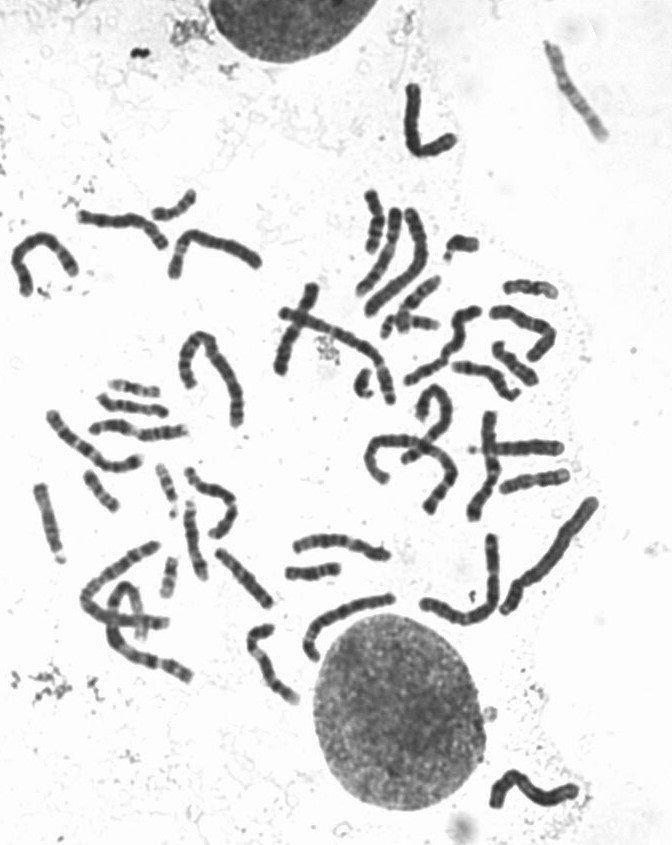chromosomes: (491, 492, 607, 618), (277, 305, 401, 410), (99, 577, 195, 687), (532, 34, 613, 155), (358, 432, 463, 521), (78, 537, 169, 639), (414, 529, 505, 626), (299, 587, 403, 665), (176, 327, 252, 433), (40, 408, 146, 483), (359, 205, 428, 319), (400, 303, 480, 390), (162, 227, 269, 289), (240, 620, 309, 714), (65, 203, 173, 261), (348, 204, 407, 301), (9, 229, 85, 303), (487, 764, 583, 822), (271, 277, 322, 381), (403, 77, 461, 168), (396, 383, 455, 469), (179, 465, 239, 543), (487, 303, 560, 366), (211, 546, 277, 612), (463, 408, 499, 527), (26, 481, 72, 567), (447, 358, 525, 404), (486, 333, 544, 393), (291, 533, 394, 566), (180, 497, 217, 586), (394, 274, 445, 338), (89, 388, 174, 426), (496, 464, 577, 497), (85, 418, 194, 441), (374, 311, 443, 347), (465, 438, 572, 461), (145, 185, 204, 225), (78, 468, 121, 522), (151, 462, 184, 523), (498, 274, 564, 304), (358, 186, 385, 259), (101, 375, 164, 404), (442, 228, 484, 267), (283, 560, 346, 585), (153, 555, 183, 601), (351, 364, 379, 403)
